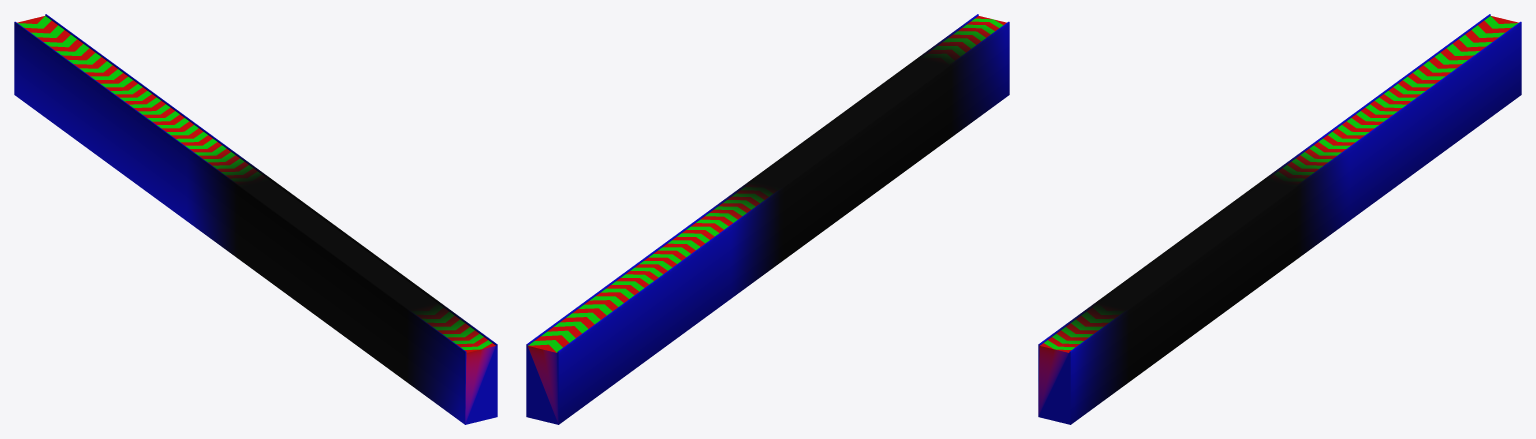
The model's file is road.fbx.
3 views of the same model, side by side, from view 1: azimuth 30°, elevation 25°; view 2: azimuth 150°, elevation 25°; view 3: azimuth 330°, elevation 25° (orthographic).
Parts seen in each view (by area): view 1: Mesh; view 2: Mesh; view 3: Mesh.
Boxes of the visible parts, x1,y1,x2,y2 form: Mesh: [14, 14, 497, 424]; Mesh: [526, 14, 1009, 424]; Mesh: [1038, 14, 1521, 424].
Size of the model in its own units: 660 by 1425 by 15921.
